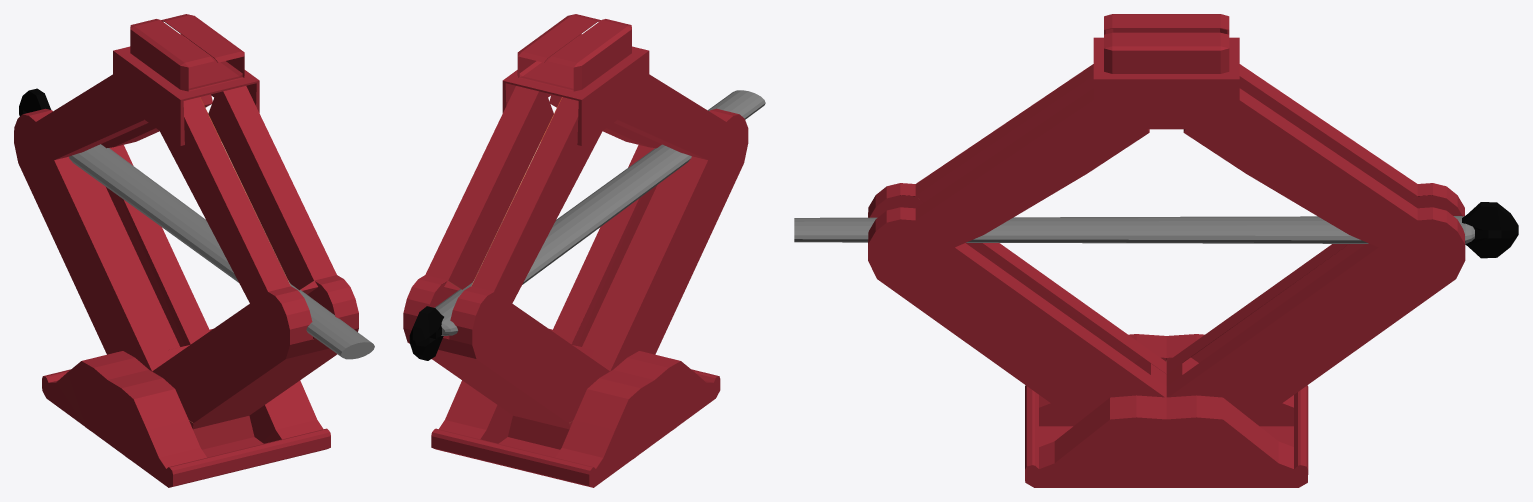
Rendered from Gato mecanico.fbx.
3 renders of one model, left to right at view 1: azimuth 30°, elevation 25°; view 2: azimuth 150°, elevation 25°; view 3: azimuth 270°, elevation 25°, orthographic. The views are drawn at different scales.
Parts seen in each view (by area): view 1: Gato; view 2: Gato; view 3: Gato.
Part boxes in pixels (x1,y1,x2,y2): Gato: (14,14,374,487); Gato: (403,14,765,487); Gato: (794,14,1518,487).
Bounding box in the file's own units: 30 × 70 × 110.
Materials: 3 (1 with a texture image).
